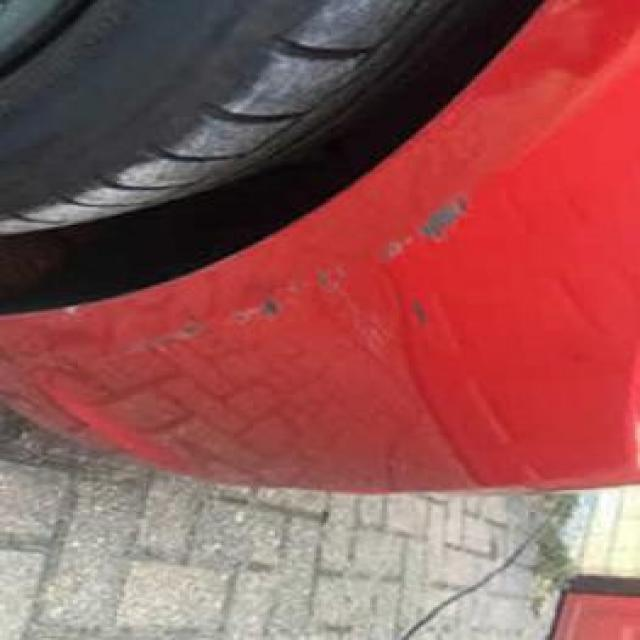scratch: (72, 164, 488, 406)
